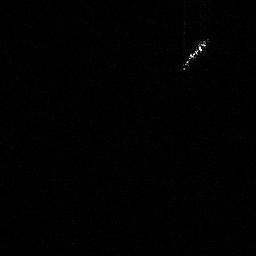ship: (180, 37, 206, 78)
